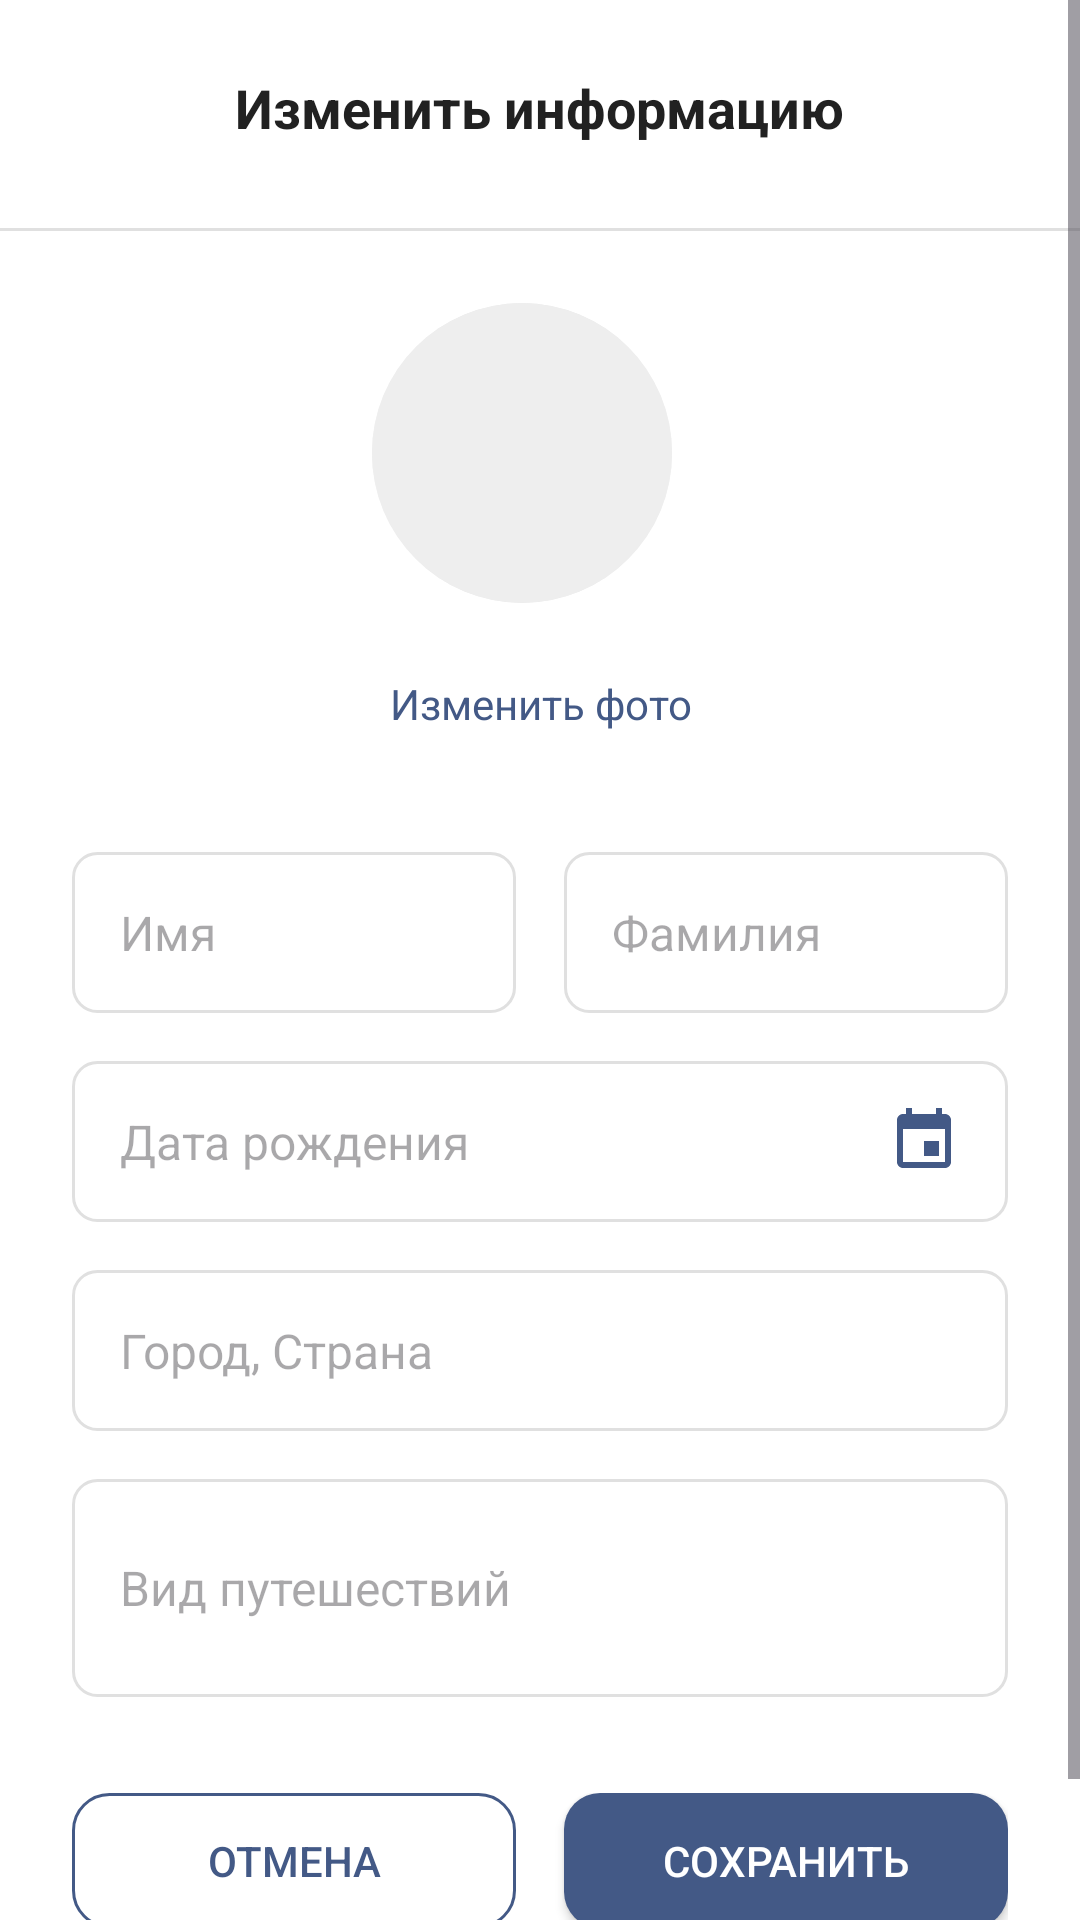

Where to tap for icons on this 1080px×1920px app screen, as (x=x, y=y):
calendar: (x=924, y=1138)
